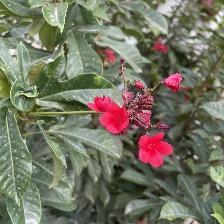jatropha: (139, 132, 175, 172), (99, 101, 133, 137)
